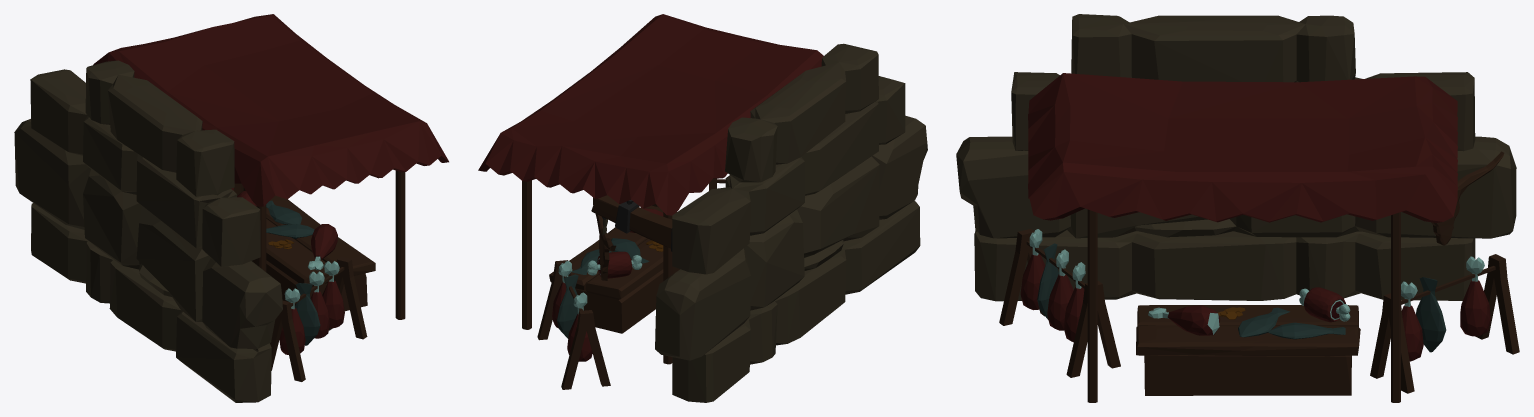
Rendered from botcher shop.obj.
3 renders of one model, left to right at view 1: azimuth 30°, elevation 25°; view 2: azimuth 150°, elevation 25°; view 3: azimuth 270°, elevation 25°, orthographic. The views are drawn at different scales.
Visible parts, largest first — view 1: _botcher_market_Cube.181; view 2: _botcher_market_Cube.181; view 3: _botcher_market_Cube.181.
Part boxes in pixels (x1=…): _botcher_market_Cube.181: x1=14, y1=14, x2=448, y2=402; _botcher_market_Cube.181: x1=478, y1=14, x2=927, y2=402; _botcher_market_Cube.181: x1=956, y1=14, x2=1519, y2=402.
Bounding box in the file's own units: 2.44 × 2.2 × 4.19.
